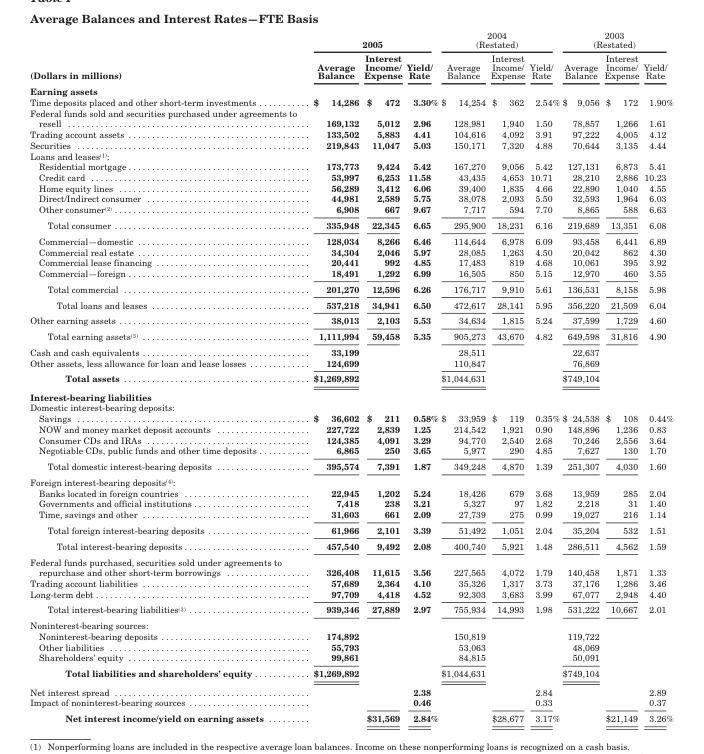table: (29, 29, 672, 723)
table column: (29, 29, 304, 723), (304, 29, 360, 723), (439, 29, 487, 723), (360, 29, 403, 723), (560, 29, 601, 723), (487, 29, 526, 723), (601, 29, 640, 723), (403, 29, 439, 723), (526, 29, 560, 723), (640, 29, 672, 723)
table column header: (29, 29, 672, 83)
table projected row header: (29, 387, 672, 401), (29, 473, 672, 487), (29, 83, 672, 96), (29, 617, 672, 630), (29, 149, 672, 160), (29, 401, 672, 412)
table row: (29, 50, 672, 83), (29, 553, 672, 577), (29, 29, 672, 50), (29, 107, 672, 128), (29, 370, 672, 387), (29, 665, 672, 682), (29, 216, 672, 232), (29, 280, 672, 296), (29, 296, 672, 312), (29, 327, 672, 343), (29, 521, 672, 537), (29, 537, 672, 553), (29, 601, 672, 617), (29, 312, 672, 327), (29, 458, 672, 473), (29, 356, 672, 370), (29, 387, 672, 401), (29, 444, 672, 458), (29, 473, 672, 487), (29, 651, 672, 665), (29, 682, 672, 696), (29, 709, 672, 723), (29, 83, 672, 96), (29, 203, 672, 216), (29, 232, 672, 245), (29, 267, 672, 280), (29, 343, 672, 356), (29, 508, 672, 521), (29, 588, 672, 601), (29, 617, 672, 630), (29, 696, 672, 709), (29, 96, 672, 107), (29, 128, 672, 139), (29, 149, 672, 160), (29, 160, 672, 171), (29, 171, 672, 182), (29, 192, 672, 203), (29, 245, 672, 256), (29, 256, 672, 267), (29, 401, 672, 412), (29, 412, 672, 423), (29, 423, 672, 434), (29, 497, 672, 508), (29, 577, 672, 588), (29, 630, 672, 641), (29, 139, 672, 149), (29, 182, 672, 192), (29, 434, 672, 444), (29, 487, 672, 497), (29, 641, 672, 651)
table spanning cell: (29, 29, 304, 83), (304, 29, 439, 50), (439, 29, 560, 50), (560, 29, 672, 50)
